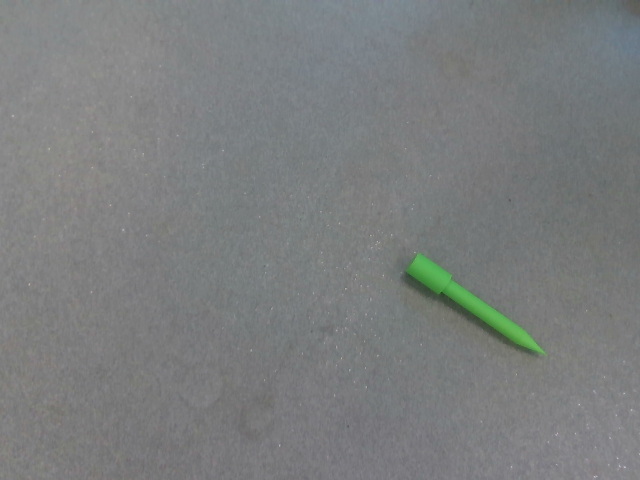Probe: (398, 248, 555, 364)
